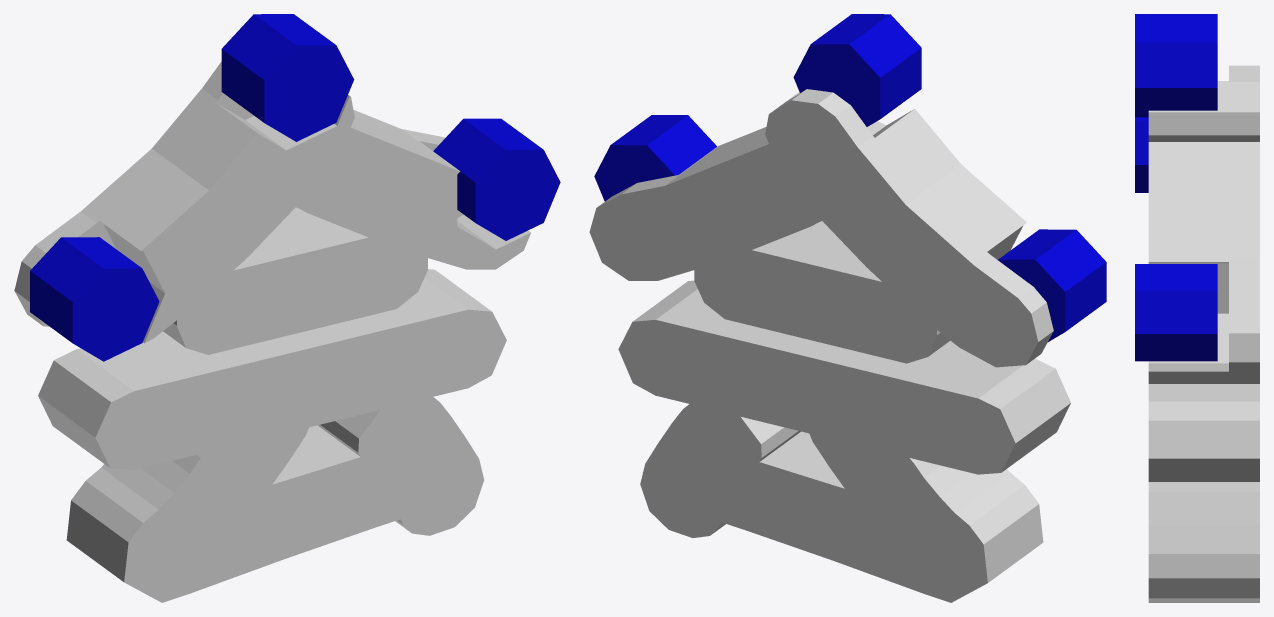
Rendered from Ch_Lite_China_会_01.fbx.
3 views of the same model, side by side, from view 1: azimuth 30°, elevation 25°; view 2: azimuth 150°, elevation 25°; view 3: azimuth 270°, elevation 25° (orthographic). The views are drawn at different scales.
Parts seen in each view (by area): view 1: sphere1; view 2: sphere1; view 3: sphere1.
Boxes of the visible parts, x1,y1,x2,y2 form: sphere1: (14, 14, 560, 602); sphere1: (589, 14, 1106, 602); sphere1: (1135, 14, 1259, 602).
Bounding box in the file's own units: 0.9795 × 1.02 × 0.2242.
